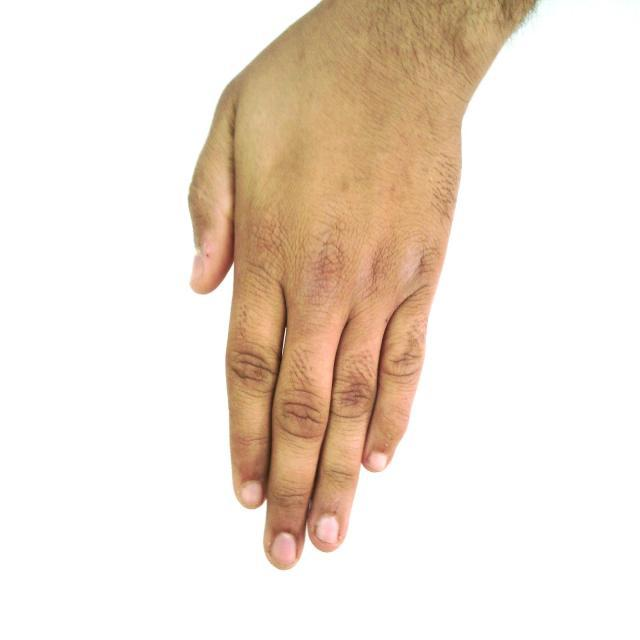Fingernail: (273, 533, 296, 566), (316, 515, 338, 542), (242, 482, 261, 506), (191, 253, 203, 283), (368, 453, 386, 470)
